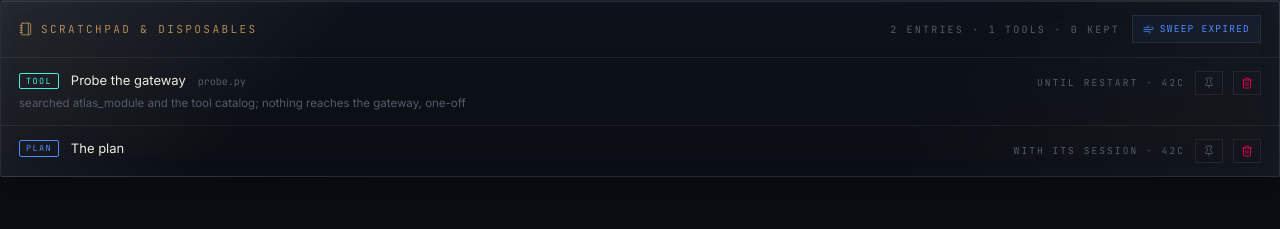
Scenario: DisposablesPanel › reports a gateway failure instead of silently doing nothing
Click the button named "Delete probe": (1247, 83) top-left (1233, 71), bottom-right (1261, 95)
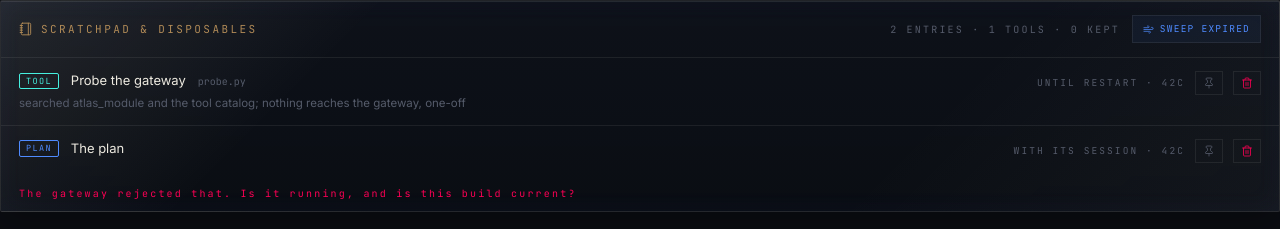
Expected: the text "gateway rejected that" is shown, top-left (19, 187), bottom-right (577, 200)
